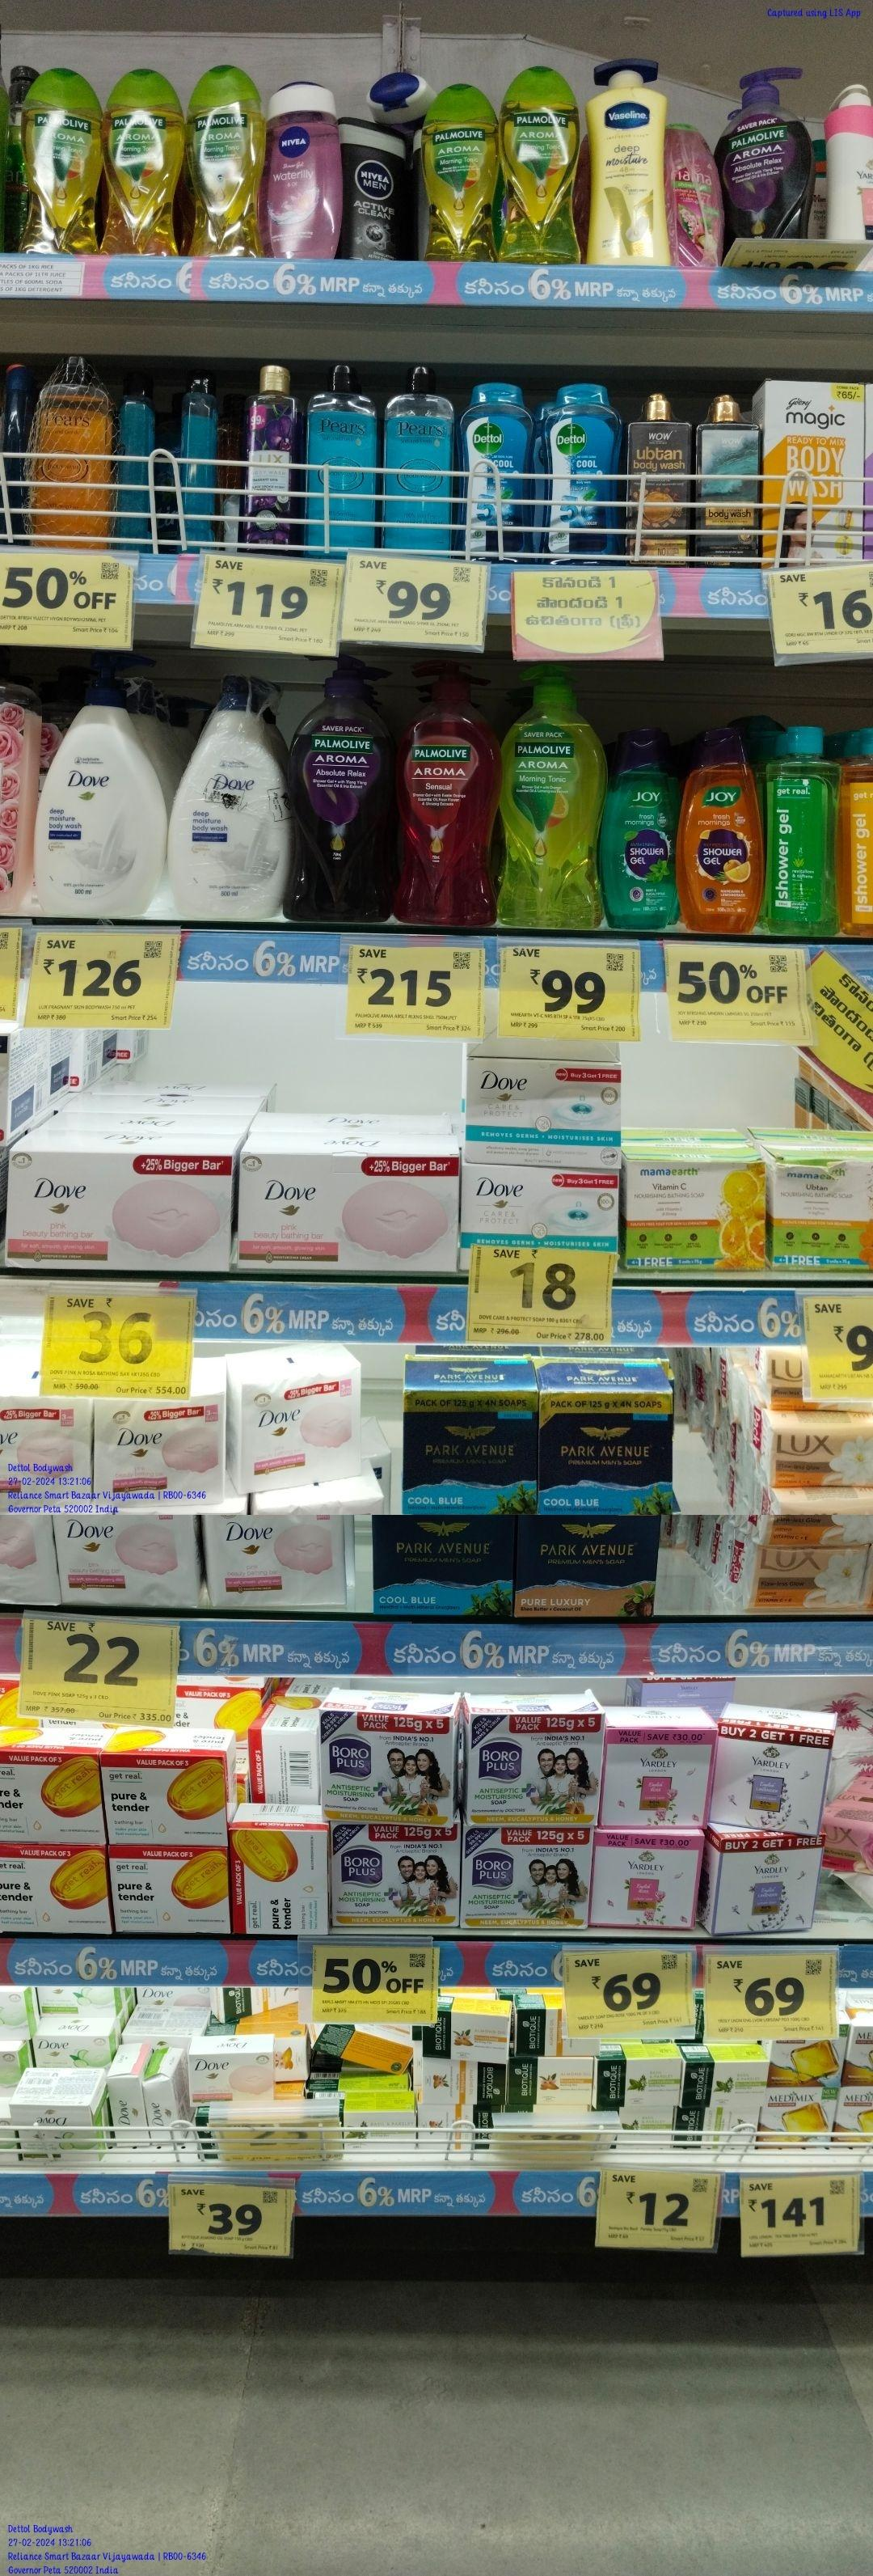Dettol_Bodywash_Cool: (543, 383, 620, 568), (463, 379, 533, 565)
Fiama_Shower_Gel_Patchouli_and_Macadamia_250ML: (666, 113, 724, 271)
Joy_Shower_Gel_Mandarin_and_Lemongrass_250ML: (683, 728, 763, 936)
Joy_Shower_Gel_Mint_and_Eucalyptus_250ML: (609, 726, 678, 931)
Lux_Black_Orchid_Scent_and_Juniper_Oil_Body_Wash_245ML: (243, 361, 300, 557)
Nivea_Shower_Gel_Waterlily_and_Oil_250ML: (267, 79, 341, 261)
Palmolive_Aroma_Morning_Tonic_Shower_Gel_250ML: (23, 61, 100, 256), (504, 66, 578, 268), (105, 66, 182, 258), (189, 62, 263, 261), (422, 80, 497, 263)
Pears_Pure_Glycerin_and_Mint_Extracts_Body_Wash_250ML: (386, 365, 453, 562), (312, 365, 377, 557)
